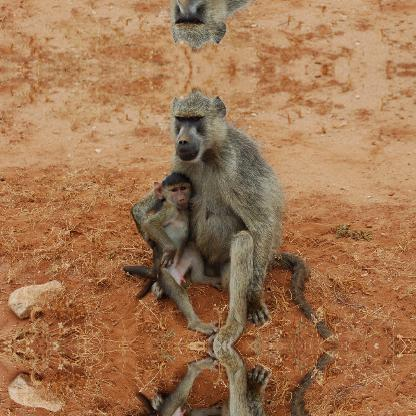Monkey: (130, 96, 328, 340), (143, 171, 227, 333), (130, 351, 329, 415), (143, 358, 228, 415)
